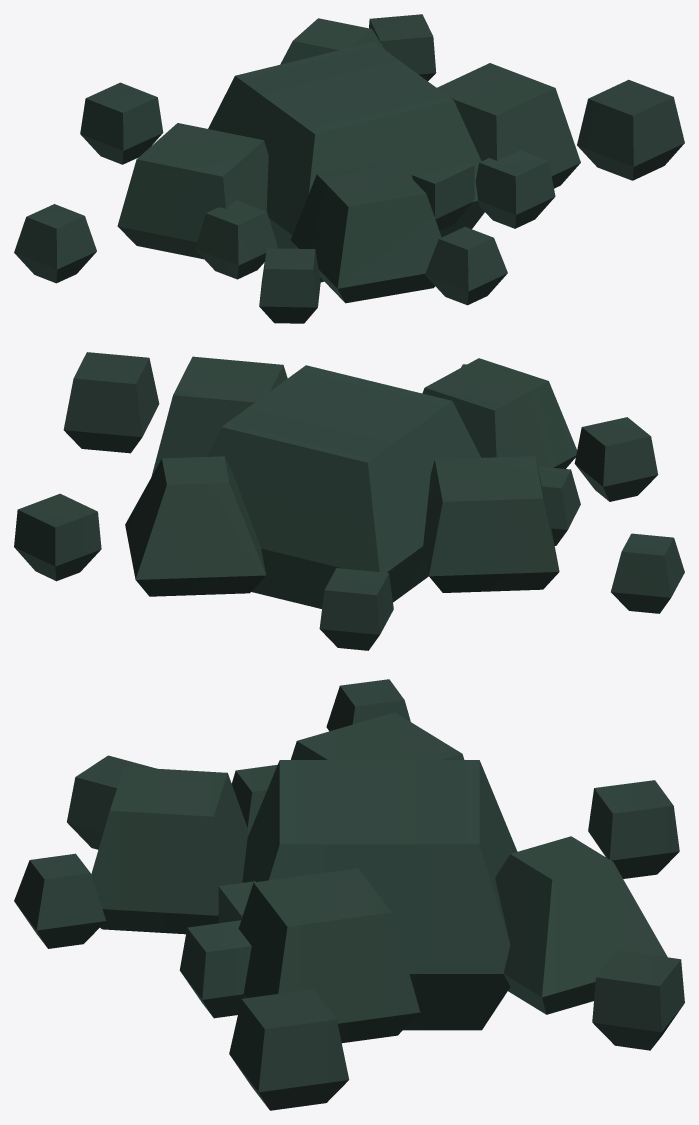
Rendered from SM_Rubble01.fbx.
The picture shows the model from 3 angles, top to bottom: view 1: azimuth 30°, elevation 25°; view 2: azimuth 150°, elevation 25°; view 3: azimuth 270°, elevation 25°; orthographic projection. The views are drawn at different scales.
Visible parts, largest first — view 1: SM_Rubble01; view 2: SM_Rubble01; view 3: SM_Rubble01.
Part boxes in pixels (box(x1,y1,x2,y2)): SM_Rubble01: box(14, 14, 684, 323); SM_Rubble01: box(14, 352, 684, 650); SM_Rubble01: box(14, 679, 684, 1110).
Size of the model in its own units: 330 by 76.01 by 250.
Materials: 1 (1 with a texture image).
